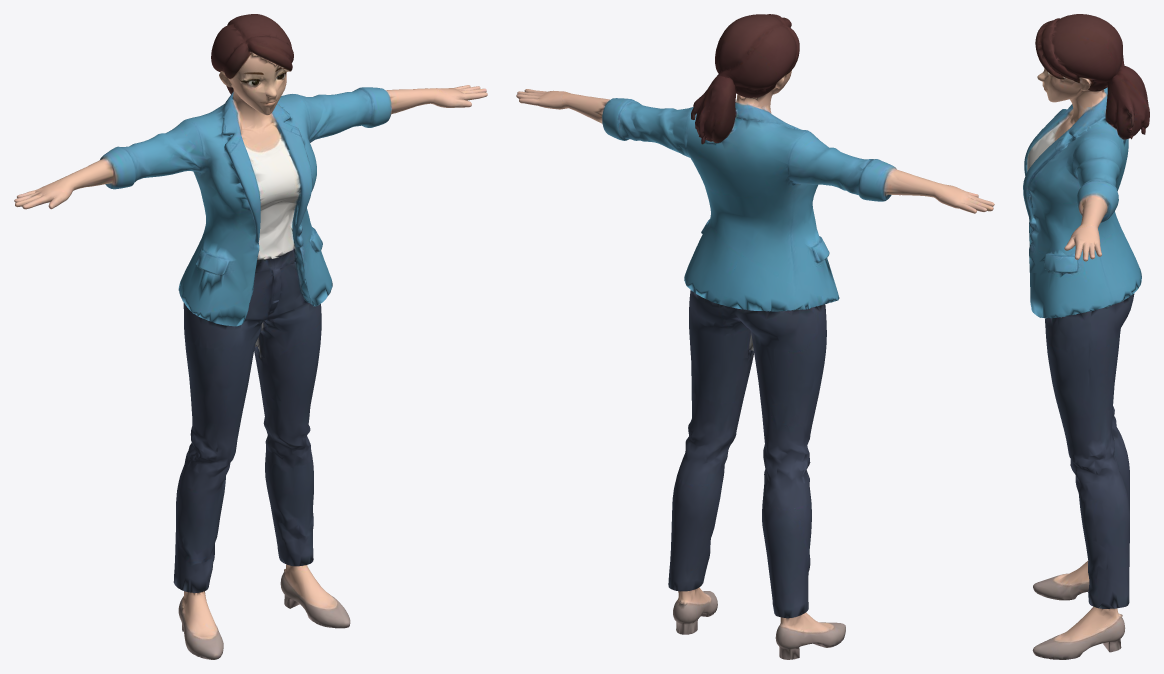
The model's file is cristina_lod.glb.
The picture shows the model from 3 angles, left to right: view 1: azimuth 30°, elevation 25°; view 2: azimuth 150°, elevation 25°; view 3: azimuth 270°, elevation 25°; orthographic projection.
Parts seen in each view (by area): view 1: tripo_node_5cc40729-f956-4be7-9b7f-48c2f5061ded; view 2: tripo_node_5cc40729-f956-4be7-9b7f-48c2f5061ded; view 3: tripo_node_5cc40729-f956-4be7-9b7f-48c2f5061ded.
Boxes of the visible parts, <box> form: tripo_node_5cc40729-f956-4be7-9b7f-48c2f5061ded: <box>14,14,487,659</box>; tripo_node_5cc40729-f956-4be7-9b7f-48c2f5061ded: <box>516,14,994,659</box>; tripo_node_5cc40729-f956-4be7-9b7f-48c2f5061ded: <box>1023,14,1149,659</box>.
Size of the model in its own units: 0.8097 by 1 by 0.1906.
1 material, 1 textured.
